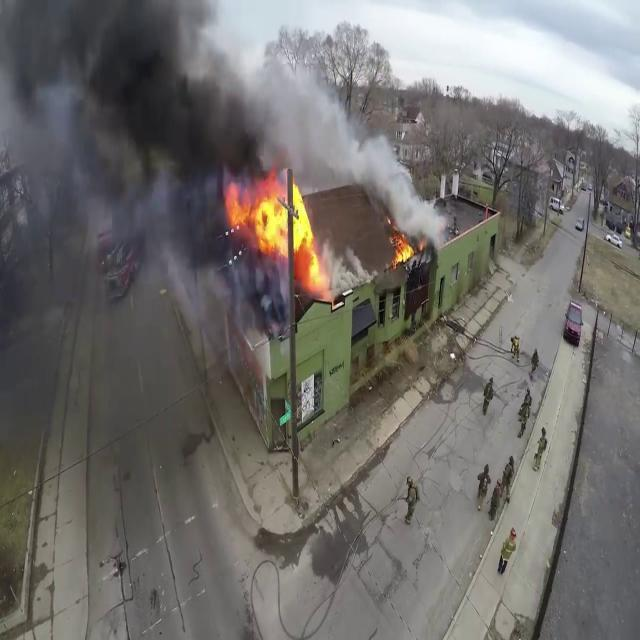Fire: (225, 172, 325, 282), (390, 232, 418, 270)
Smoke: (0, 0, 274, 458), (1, 0, 440, 222)
